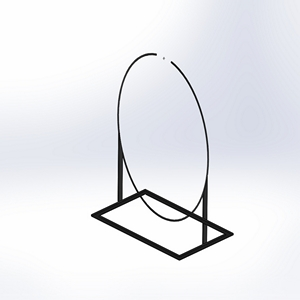circle: (90, 50, 235, 261)
